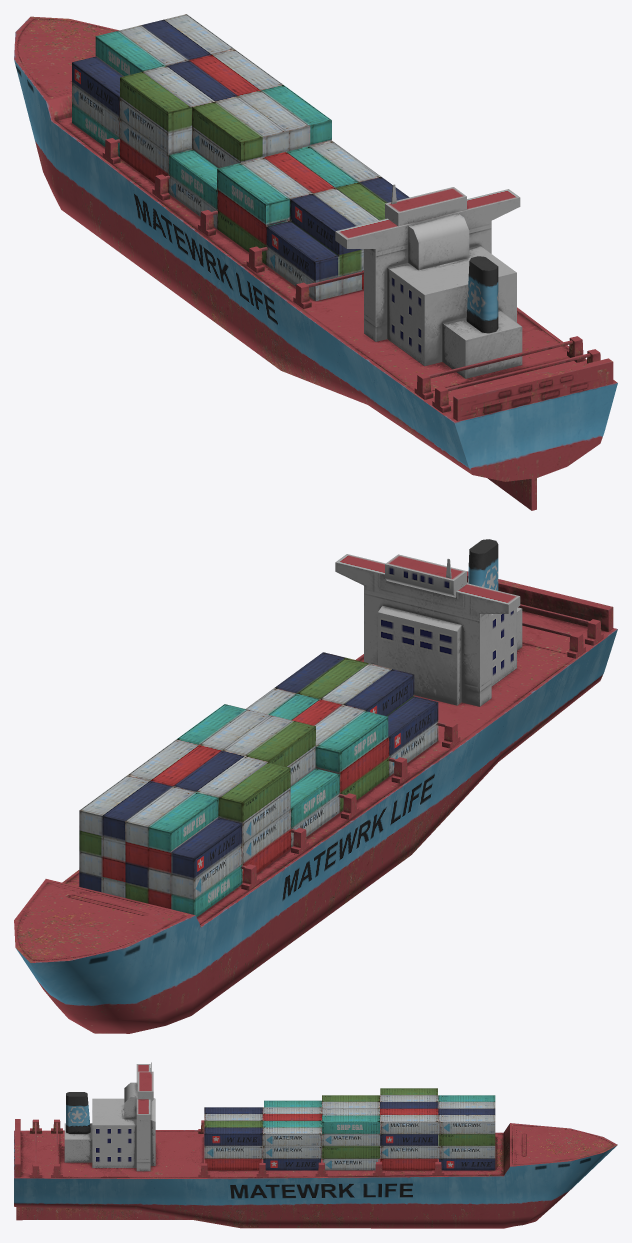
The model's file is MB_Container_Ship_01.fbx.
3 renders of one model, top to bottom at view 1: azimuth 30°, elevation 25°; view 2: azimuth 150°, elevation 25°; view 3: azimuth 270°, elevation 25°, orthographic. The views are drawn at different scales.
Visible parts, largest first — view 1: MB_Container_Ship_01; view 2: MB_Container_Ship_01; view 3: MB_Container_Ship_01.
Boxes of the visible parts, left/top/right/bottom form: MB_Container_Ship_01: left=14, top=14, right=617, bottom=510; MB_Container_Ship_01: left=14, top=539, right=617, bottom=1033; MB_Container_Ship_01: left=14, top=1062, right=617, bottom=1228.
Bounding box in the file's own units: 3432 × 4794 × 17333.
